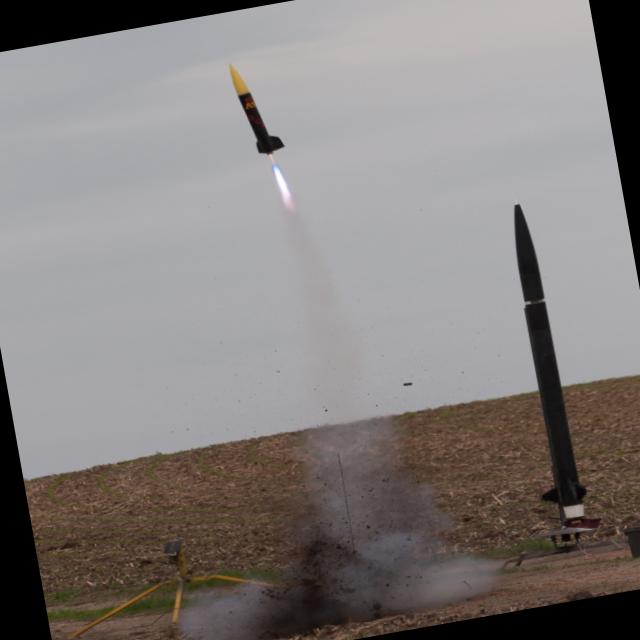rocket: (212, 46, 308, 208)
